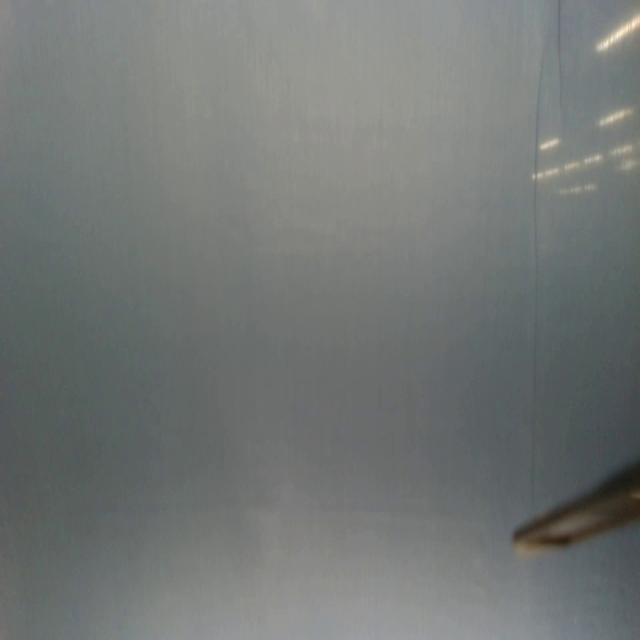crease: (528, 44, 546, 498), (556, 0, 565, 112)
